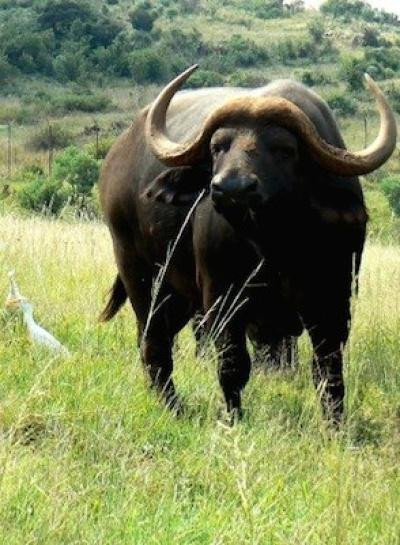buffalo: (100, 65, 396, 429)
